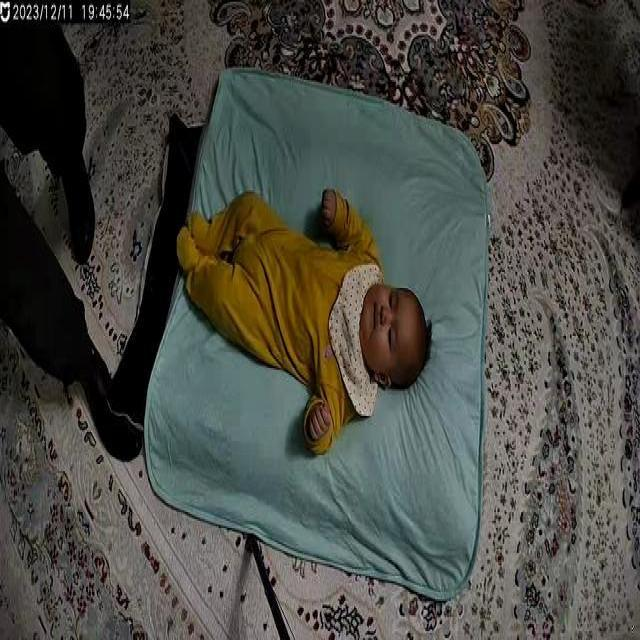baby: (173, 182, 434, 462)
